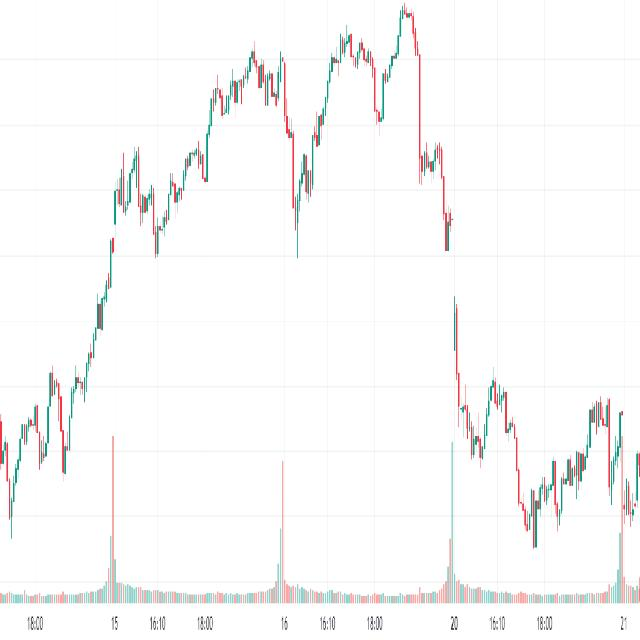Head-Shoulders: (108, 136, 157, 254)
